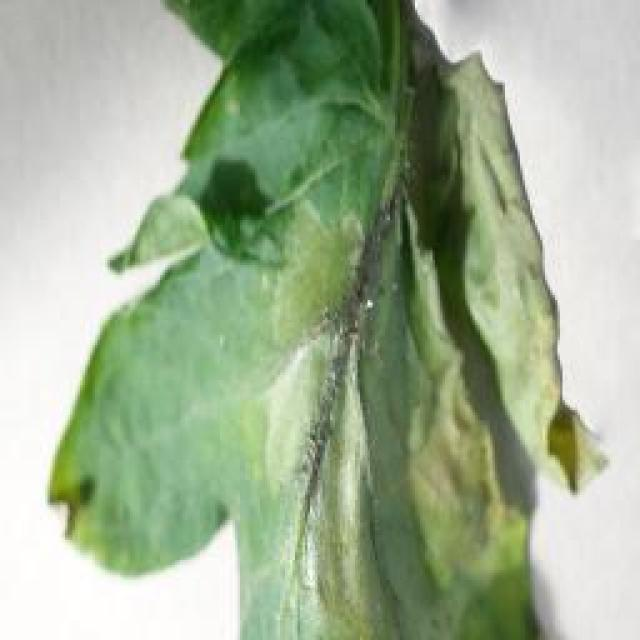Tomato Late Blight: (270, 95, 455, 640)
